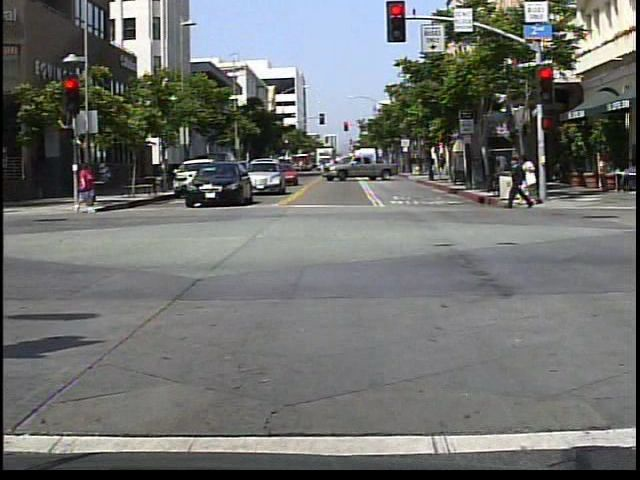person: (505, 154, 534, 213), (522, 149, 543, 208), (75, 159, 95, 218), (612, 149, 638, 193)
